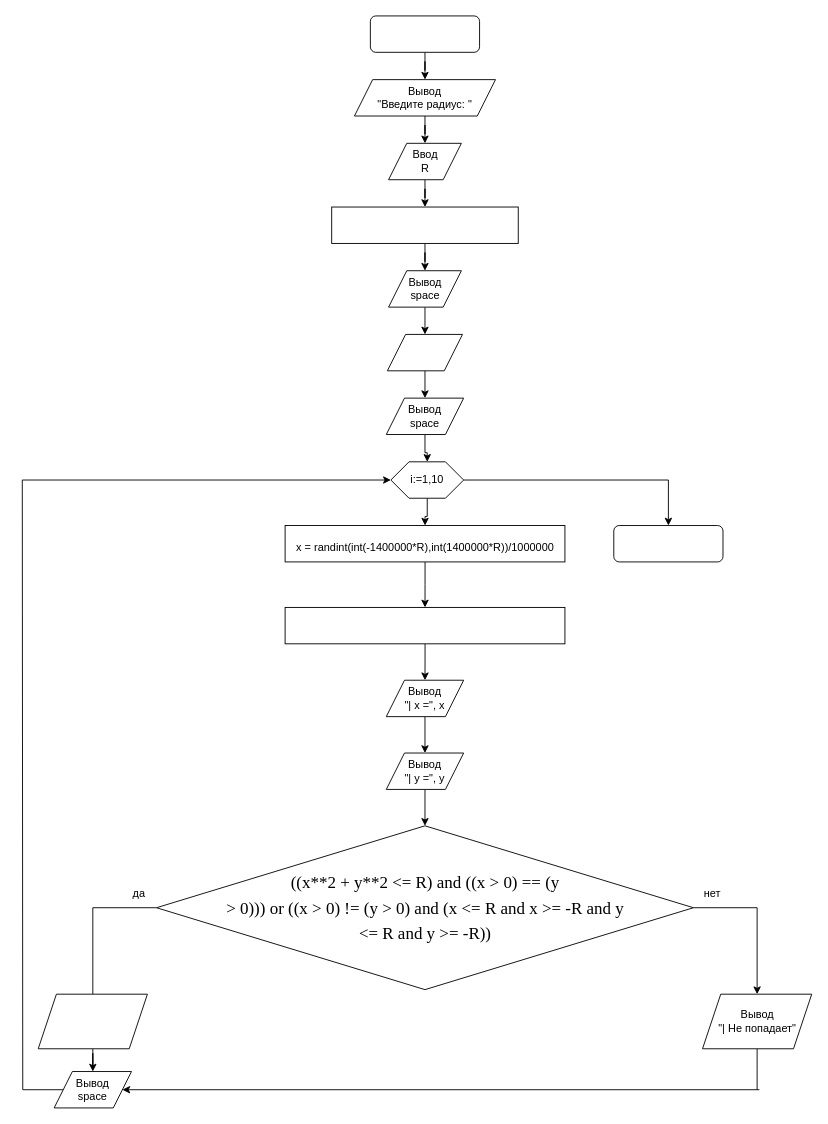
This 828x1124 diagram has some shape labels left out. The centre of each missing label's shape, as x and y in pixels:
space = " +------------------+ ": [424,224]
y = randint(int(-1400000*R),int(1400000*R))/1000000: [424,625]
Вывод "| R =", R: [424,352]
Вывод "| Попадает": [92,1021]
Конец: [668,543]
Начало: [424,33]
